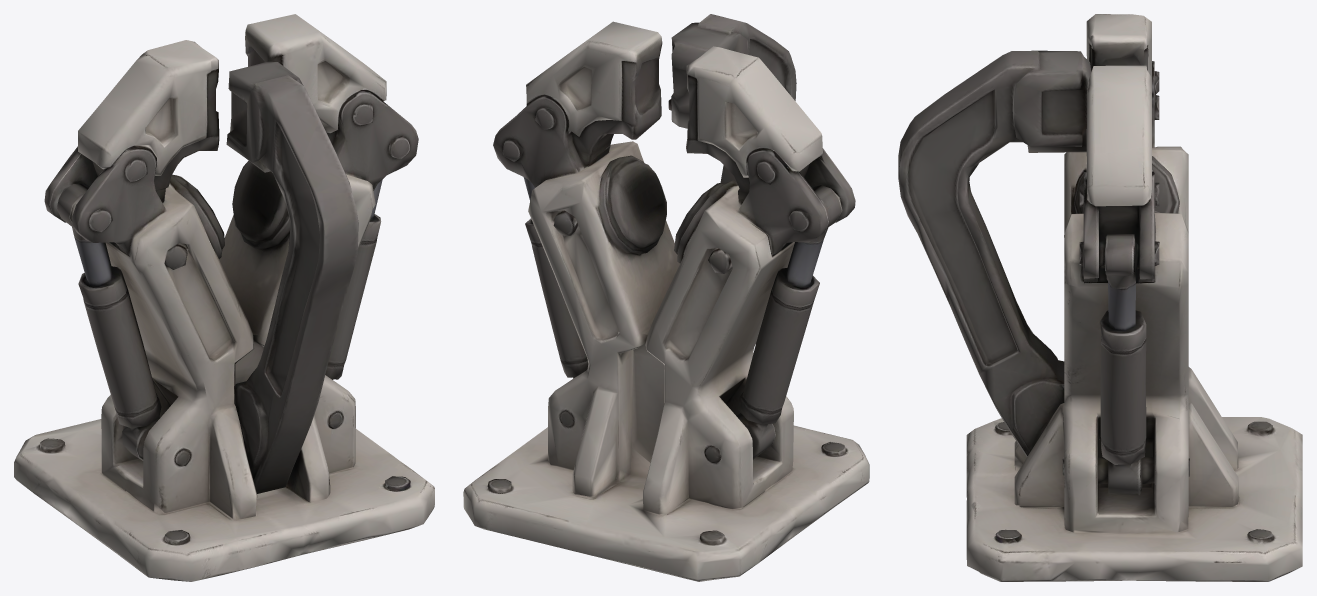
Rendered from dockingClamp.glb.
3 renders of one model, left to right at view 1: azimuth 30°, elevation 25°; view 2: azimuth 150°, elevation 25°; view 3: azimuth 270°, elevation 25°, orthographic. The views are drawn at different scales.
Visible parts, largest first — view 1: tripo_node_4ba488d9-ae1d-4121-8390-ee92d3d0c984; view 2: tripo_node_4ba488d9-ae1d-4121-8390-ee92d3d0c984; view 3: tripo_node_4ba488d9-ae1d-4121-8390-ee92d3d0c984.
Boxes of the visible parts, x1,y1,x2,y2 form: tripo_node_4ba488d9-ae1d-4121-8390-ee92d3d0c984: [14, 14, 434, 581]; tripo_node_4ba488d9-ae1d-4121-8390-ee92d3d0c984: [463, 14, 869, 581]; tripo_node_4ba488d9-ae1d-4121-8390-ee92d3d0c984: [898, 14, 1302, 581].
Bounding box in the file's own units: 2.33 × 3 × 2.39.
Materials: 1 (1 with a texture image).
